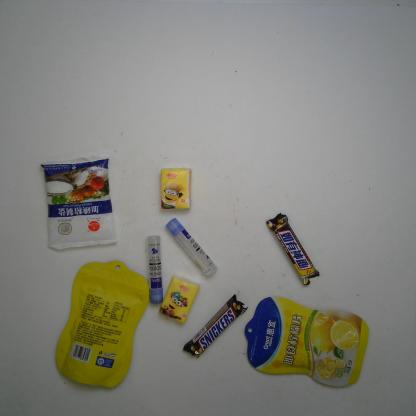Chocolate: (182, 293, 249, 359), (267, 213, 319, 286)
Dried Fruit: (54, 260, 150, 389), (244, 296, 370, 388)
Seasoner: (39, 154, 116, 250)
Stationery: (165, 218, 218, 277), (146, 234, 164, 305)
Tissue: (158, 275, 200, 324), (159, 167, 192, 211)
